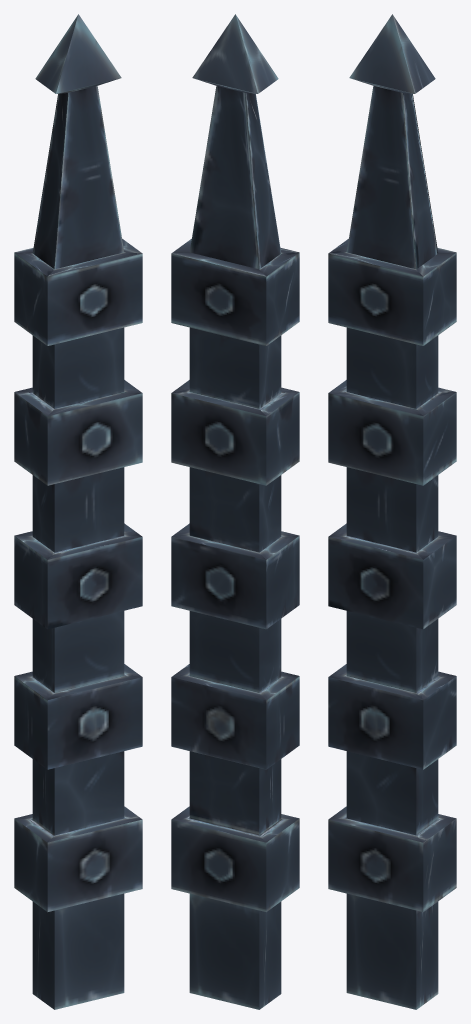
File: Metal_grid_column.fbx
3 views of the same model, side by side, from view 1: azimuth 30°, elevation 25°; view 2: azimuth 150°, elevation 25°; view 3: azimuth 330°, elevation 25° (orthographic).
Visible parts, largest first — view 1: Metal_grid_column; view 2: Metal_grid_column; view 3: Metal_grid_column.
Boxes of the visible parts, x1,y1,x2,y2 form: Metal_grid_column: (14,14,142,1009); Metal_grid_column: (171,14,299,1009); Metal_grid_column: (328,14,456,1009).
Bounding box in the file's own units: 0.2114 × 2.08 × 0.128.
